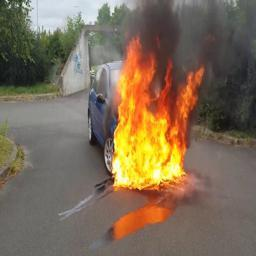fire: (112, 33, 204, 189)
